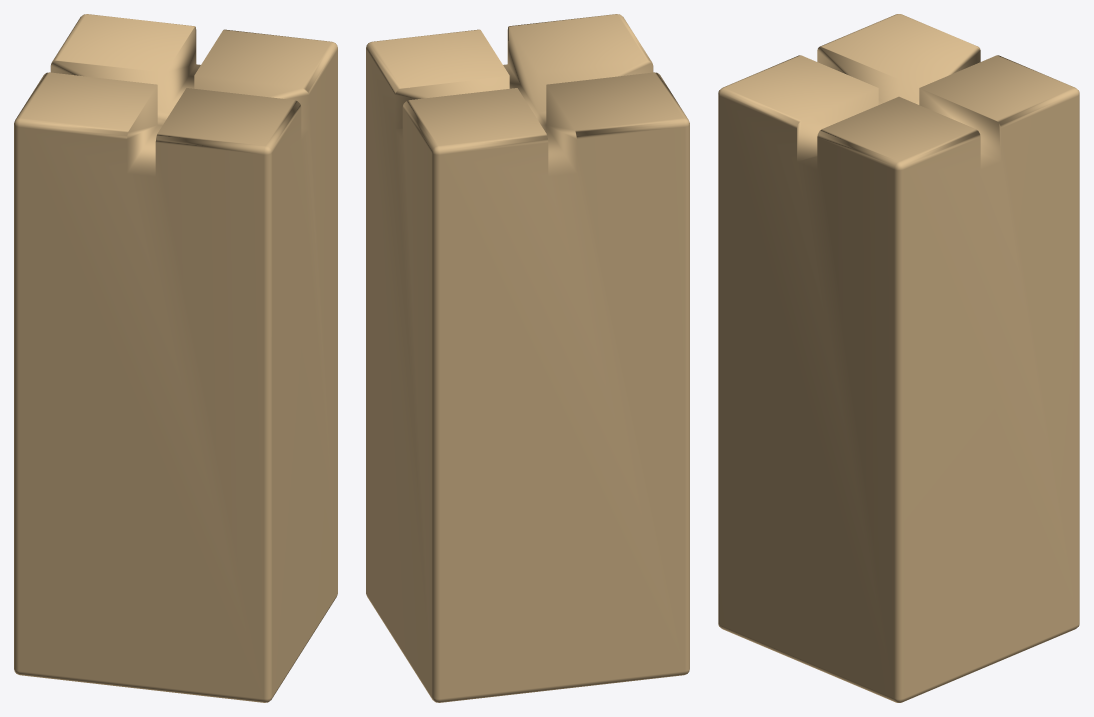
Rendered from bishop.glb.
The picture shows the model from 3 angles, left to right: view 1: azimuth 30°, elevation 25°; view 2: azimuth 150°, elevation 25°; view 3: azimuth 270°, elevation 25°; orthographic projection. The views are drawn at different scales.
Visible parts, largest first — view 1: Bauhaus-inspired bishop.001; view 2: Bauhaus-inspired bishop.001; view 3: Bauhaus-inspired bishop.001.
Boxes of the visible parts, x1=… form: Bauhaus-inspired bishop.001: x1=14, y1=14, x2=337, y2=702; Bauhaus-inspired bishop.001: x1=366, y1=14, x2=689, y2=702; Bauhaus-inspired bishop.001: x1=718, y1=14, x2=1079, y2=702.
Size of the model in its own units: 0.0376 by 0.062 by 0.0376.
